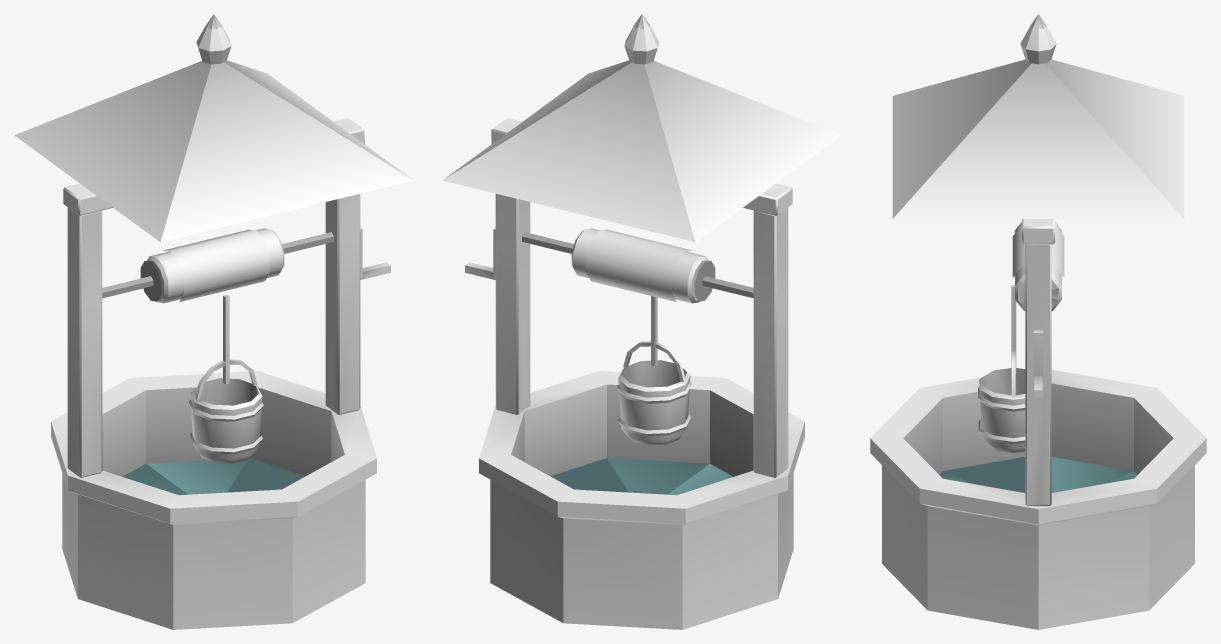
Rendered from well.glb.
3 views of the same model, side by side, from view 1: azimuth 30°, elevation 25°; view 2: azimuth 150°, elevation 25°; view 3: azimuth 270°, elevation 25° (orthographic).
Parts seen in each view (by area): view 1: well_CL_Stone, well_CL_Copper, well_CL_Fabric, well_CL_Water; view 2: well_CL_Stone, well_CL_Copper, well_CL_Fabric, well_CL_Water; view 3: well_CL_Stone, well_CL_Copper, well_CL_Fabric, well_CL_Water.
Boxes of the visible parts, box(x1,y1,x2,y2) form: well_CL_Stone: box(51, 118, 376, 629); well_CL_Copper: box(14, 14, 413, 242); well_CL_Fabric: box(102, 227, 390, 463); well_CL_Water: box(122, 458, 305, 495); well_CL_Stone: box(479, 118, 804, 629); well_CL_Copper: box(442, 14, 841, 242); well_CL_Fabric: box(465, 227, 753, 445); well_CL_Water: box(550, 458, 733, 495); well_CL_Stone: box(870, 219, 1206, 629); well_CL_Copper: box(892, 14, 1184, 218); well_CL_Fabric: box(978, 222, 1064, 452); well_CL_Water: box(939, 457, 1137, 492).
Size of the model in its own units: 2.24 by 3.68 by 2.04.
